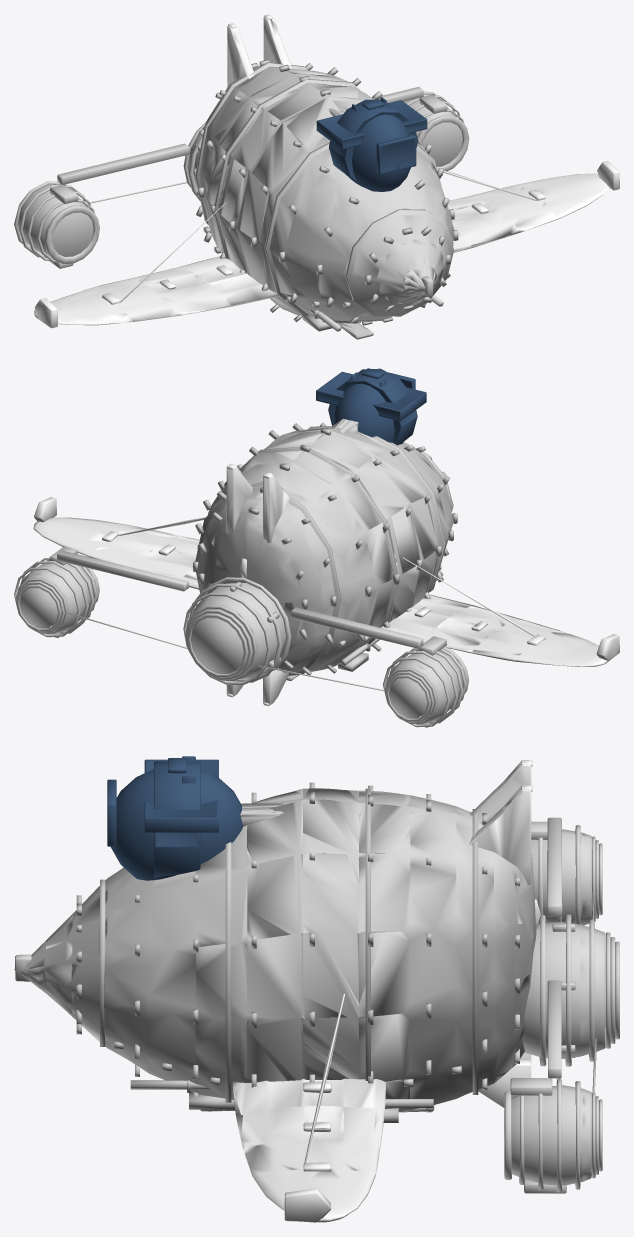
The model's file is ship_v7_backup.glb.
3 views of the same model, one above another, from view 1: azimuth 30°, elevation 25°; view 2: azimuth 150°, elevation 25°; view 3: azimuth 270°, elevation 25° (orthographic). The views are drawn at different scales.
Parts seen in each view (by area): view 1: VR_Ship_Hull, VR_Ship_Wings, VR_Ship_Engine, VR_Ship_Cockpit, VR_Ship_Fin; view 2: VR_Ship_Hull, VR_Ship_Wings, VR_Ship_Engine, VR_Ship_Nozzle, VR_Ship_Cockpit, VR_Ship_Fin; view 3: VR_Ship_Hull, VR_Ship_Engine, VR_Ship_Wings, VR_Ship_Cockpit, VR_Ship_Fin, VR_Ship_Nozzle.
Part boxes in pixels (box(x1,y1,x2,y2)): VR_Ship_Hull: box(193, 59, 458, 339); VR_Ship_Wings: box(34, 161, 619, 328); VR_Ship_Engine: box(14, 87, 469, 268); VR_Ship_Cockpit: box(316, 97, 427, 191); VR_Ship_Fin: box(227, 14, 291, 86); VR_Ship_Hull: box(193, 418, 457, 680); VR_Ship_Wings: box(33, 497, 619, 666); VR_Ship_Engine: box(14, 546, 468, 727); VR_Ship_Nozzle: box(15, 578, 437, 723); VR_Ship_Cockpit: box(316, 368, 426, 445); VR_Ship_Fin: box(226, 463, 290, 706); VR_Ship_Hull: box(14, 782, 536, 1122); VR_Ship_Engine: box(504, 817, 605, 1193); VR_Ship_Wings: box(232, 993, 386, 1222); VR_Ship_Cockpit: box(107, 756, 242, 880); VR_Ship_Fin: box(469, 760, 540, 1107); VR_Ship_Nozzle: box(591, 836, 619, 1178).
Bounding box in the file's own units: 4.02 × 1.65 × 2.6.
